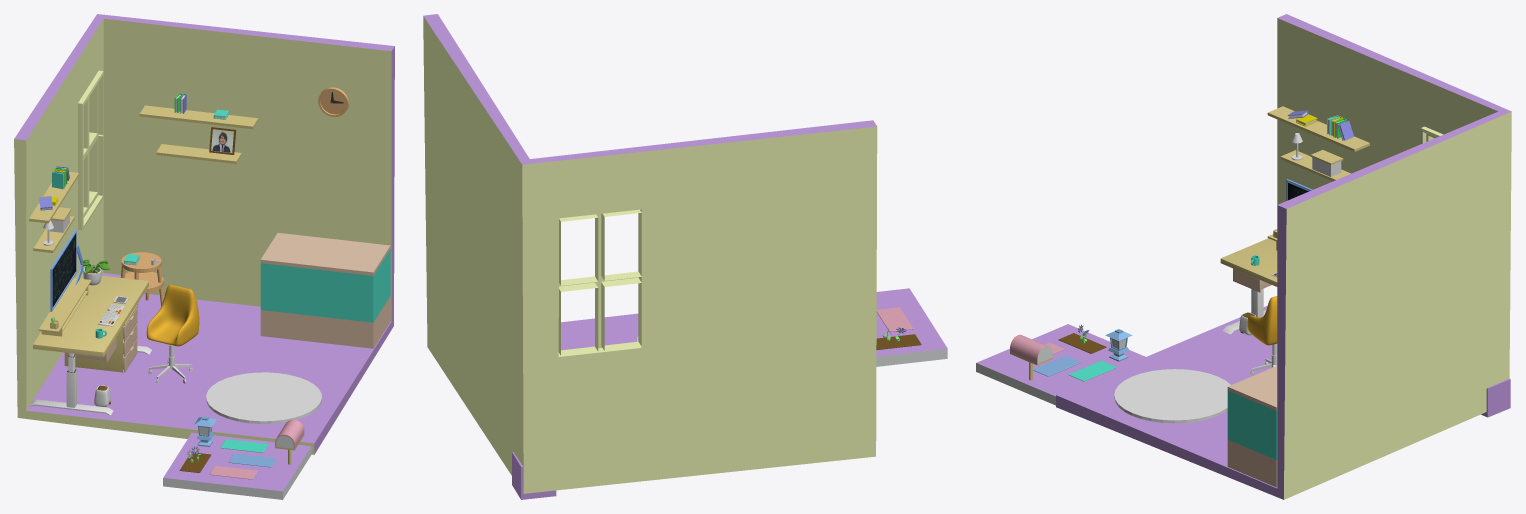
The picture shows the model from 3 angles, left to right: view 1: azimuth 30°, elevation 25°; view 2: azimuth 150°, elevation 25°; view 3: azimuth 270°, elevation 25°; orthographic projection. The views are drawn at different scales.
Visible parts, largest first — view 1: body, Aquerium, floor_items, Desks, shelve, Mini_floor, Table_stuff, Chair, Computer, Clock, Mailbox, Lamp (+3 smaller); view 2: body, Mini_floor, Cube, Floorthird; view 3: body, floor_items, Aquerium, Mini_floor, shelve, Desks, Chair, Mailbox, Cube.
Part boxes in pixels (x1,y1,x2,y2): body: (14,14,394,454); Aquerium: (149,233,390,370); floor_items: (64,305,321,423); Desks: (30,252,163,415); shelve: (29,93,258,252); Mini_floor: (163,432,311,499); Table_stuff: (38,254,158,338); Chair: (146,284,199,346); Computer: (50,230,83,311); Clock: (318,87,348,116); Mailbox: (275,419,304,464); Lamp: (194,416,216,446); body: (423,14,877,493); Mini_floor: (876,288,947,366); Cube: (512,452,556,499); Floorthird: (876,307,913,331); body: (1056,14,1511,499); floor_items: (1114,312,1277,423); Aquerium: (1227,366,1277,487); Mini_floor: (976,324,1145,405); shelve: (1267,106,1369,181); Desks: (1220,238,1277,334); Chair: (1247,296,1277,345); Mailbox: (1010,334,1052,380); Cube: (1481,378,1510,417).
Bounding box in the file's own units: 28.44 × 20.13 × 33.02.
33 materials, 2 textured.
